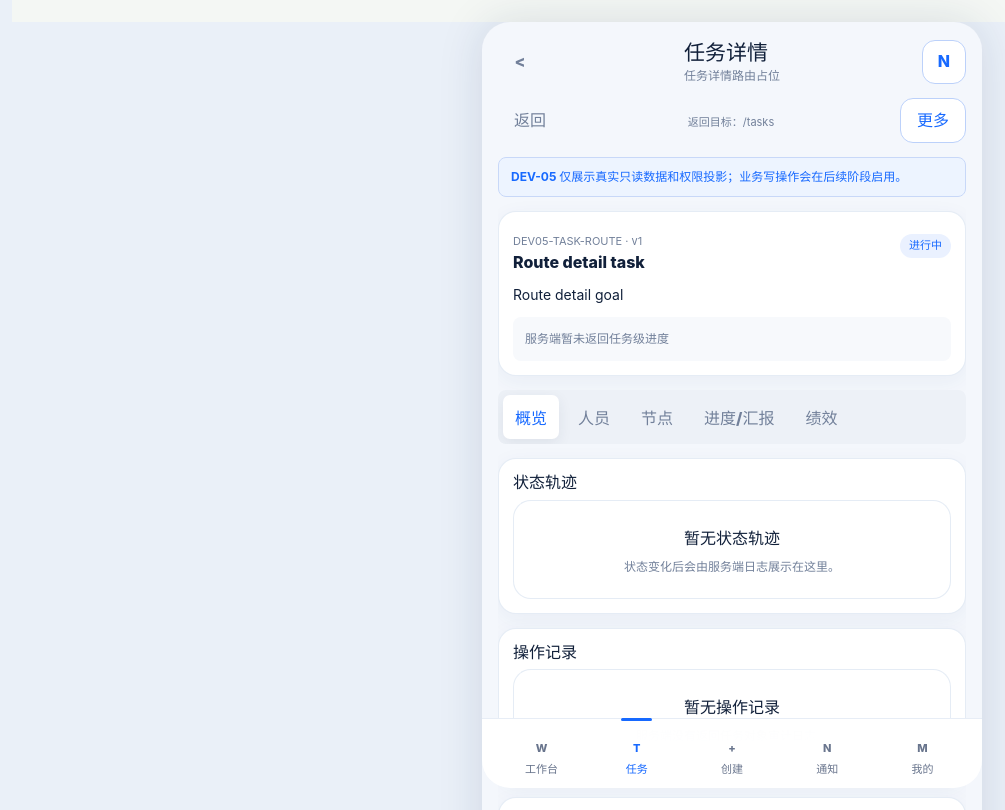
DEV-02 target router › uses a route-specific safe fallback when no source exists
Click the button "返回".
click(530, 121)  # box [498,99,562,143]
(page scrolled)
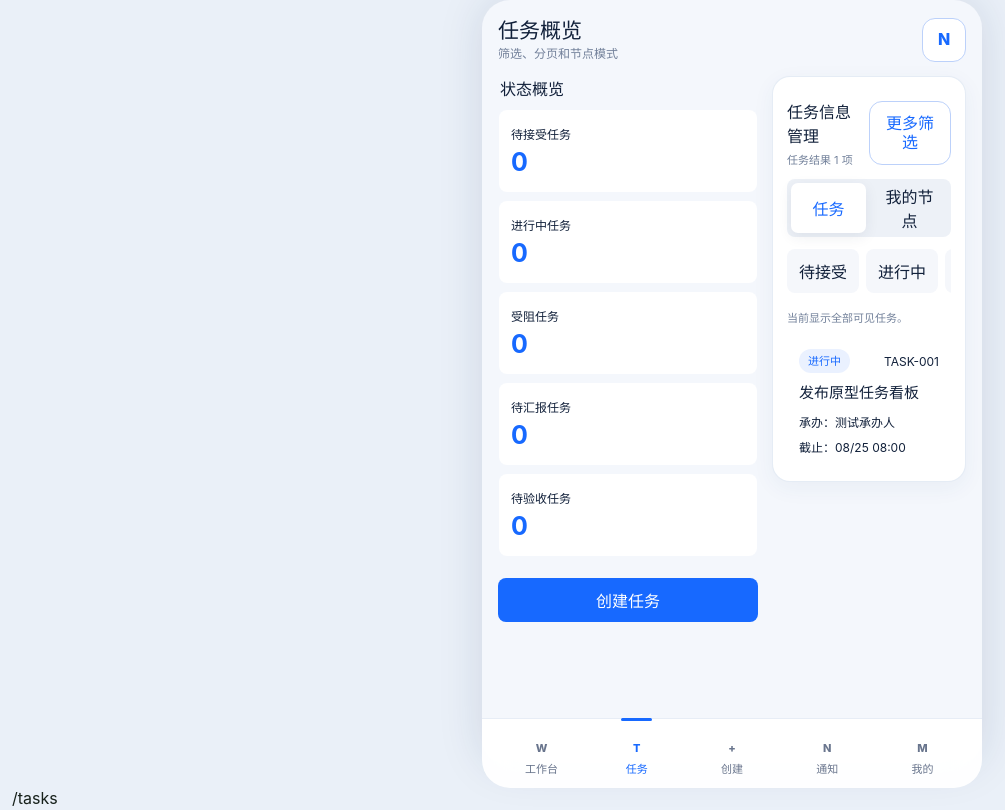
Expected: the text with test id "location" reads "/tasks", [12,788,58,808]
